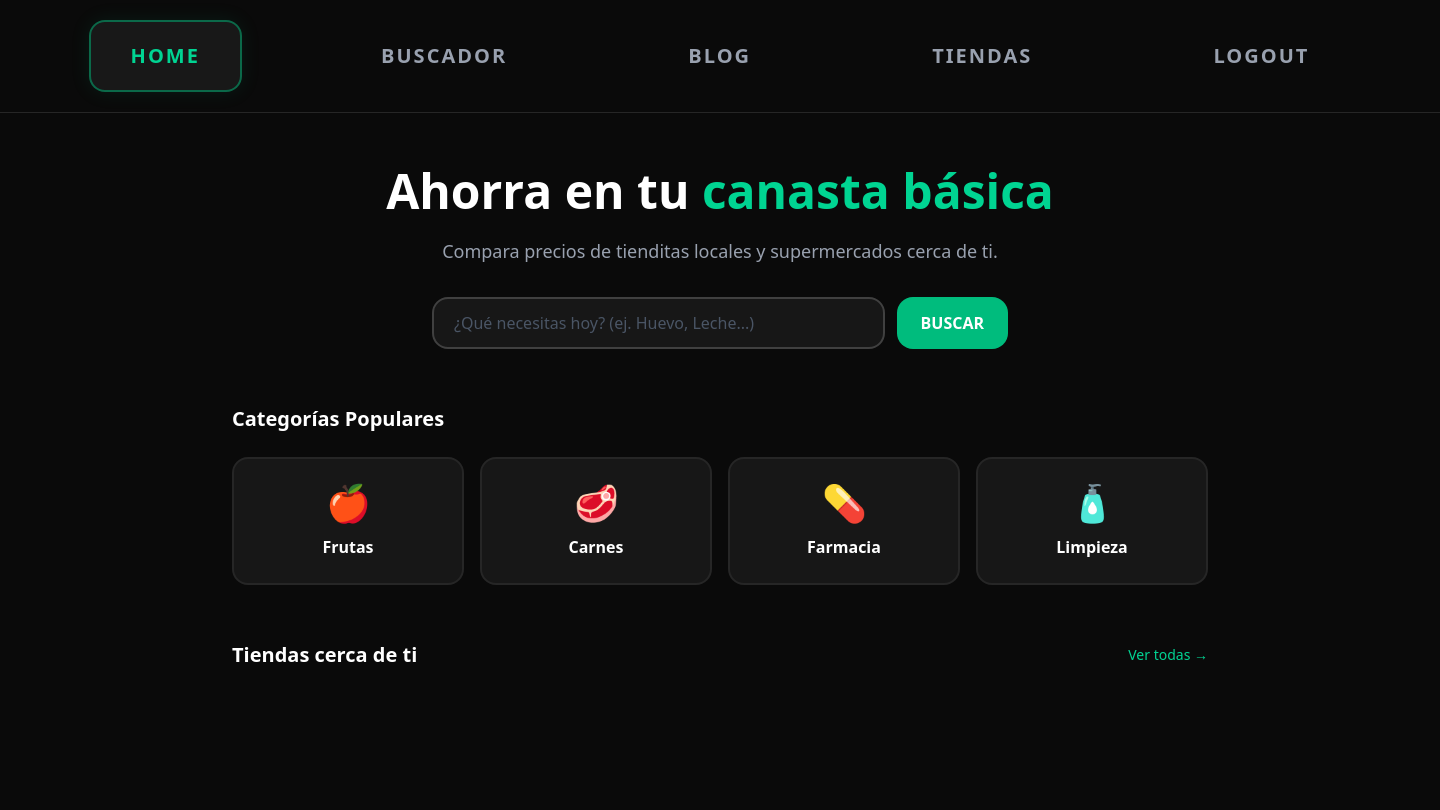
Test: Sesión - Multipestaña, logout y reconexión › al hacer logout desaparece el botón LOGOUT y aparece LOGIN
Step 1. Click the button "LOGOUT" → (1261, 56), box [1172,20,1351,92]
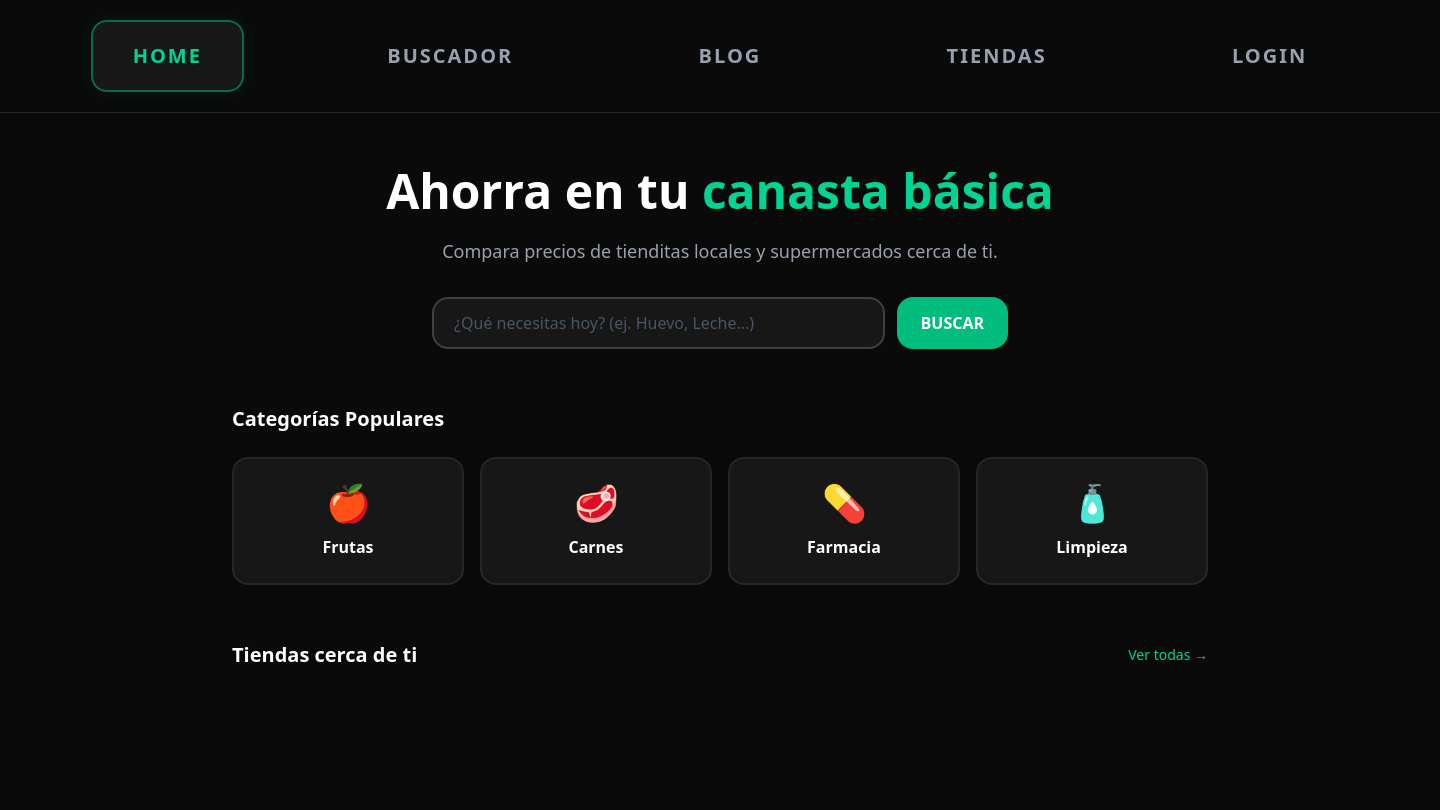
Check: the button "LOGOUT" is gone
Check: the link "LOGIN" is shown, box [1232,42,1307,69]
